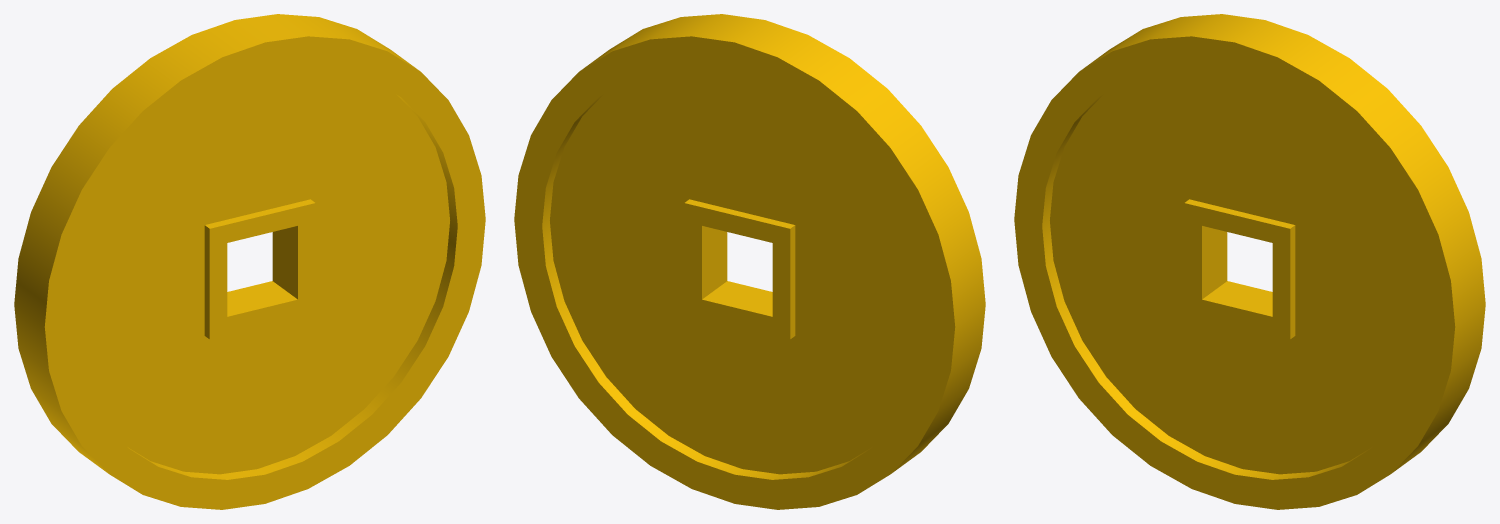
The model's file is muenze.FBX.
3 views of the same model, side by side, from view 1: azimuth 30°, elevation 25°; view 2: azimuth 150°, elevation 25°; view 3: azimuth 330°, elevation 25° (orthographic).
Parts seen in each view (by area): view 1: muenze; view 2: muenze; view 3: muenze.
Part boxes in pixels (x1,y1,x2,y2): muenze: [14, 14, 485, 509]; muenze: [514, 14, 985, 509]; muenze: [1014, 14, 1485, 509].
Size of the model in its own units: 0.5 by 0.5 by 0.06.
